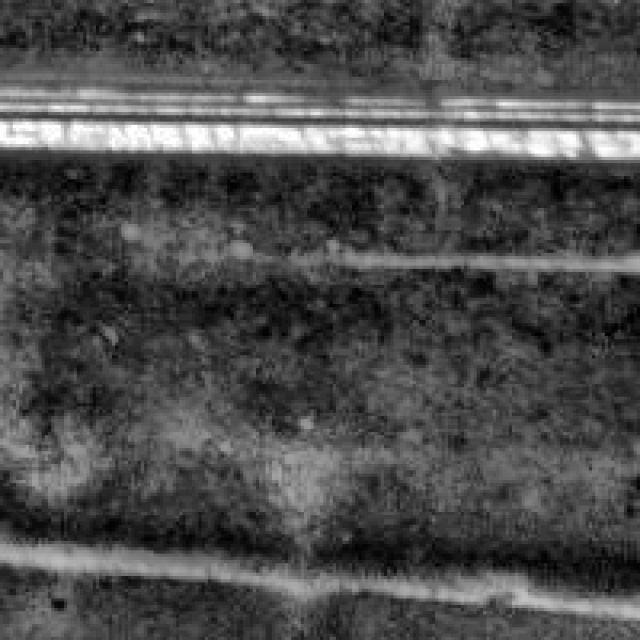Inclusion: (6, 534, 624, 624), (0, 74, 637, 156), (304, 230, 634, 269)
